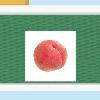raw: (32, 39, 68, 74)
